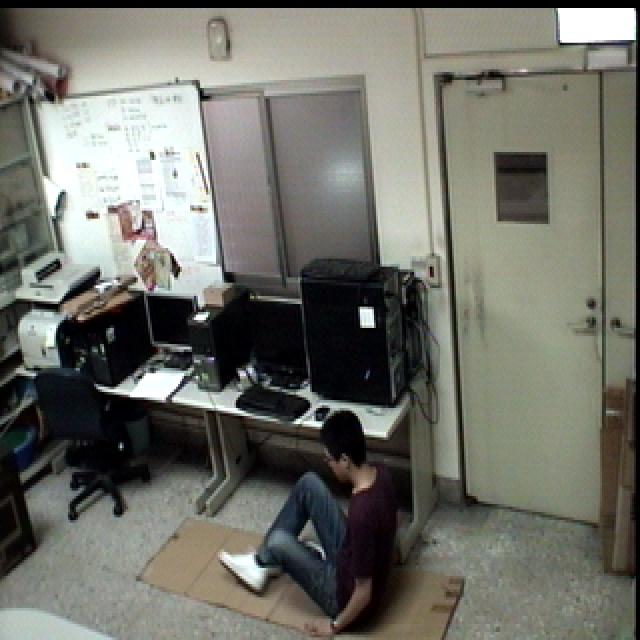sit: (218, 408, 408, 640)
